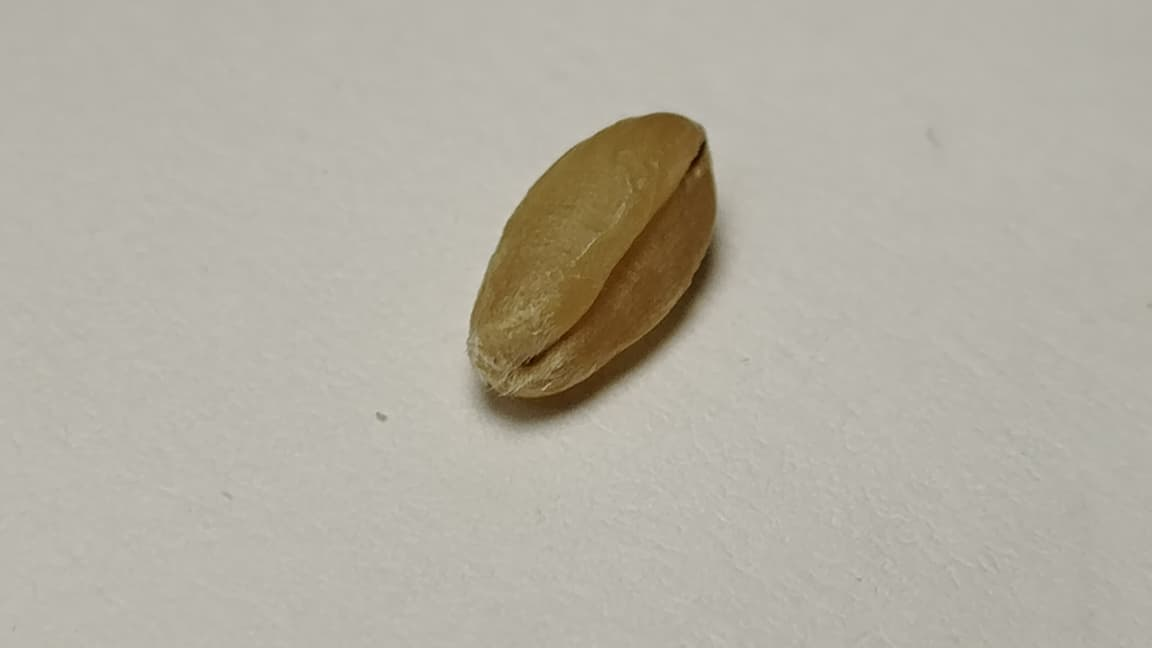healthy: (468, 112, 714, 398)
